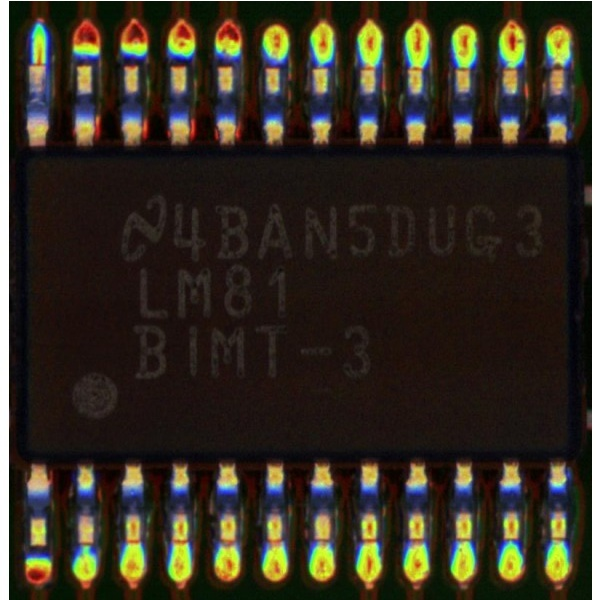Bad_podu: (32, 53, 46, 75)
